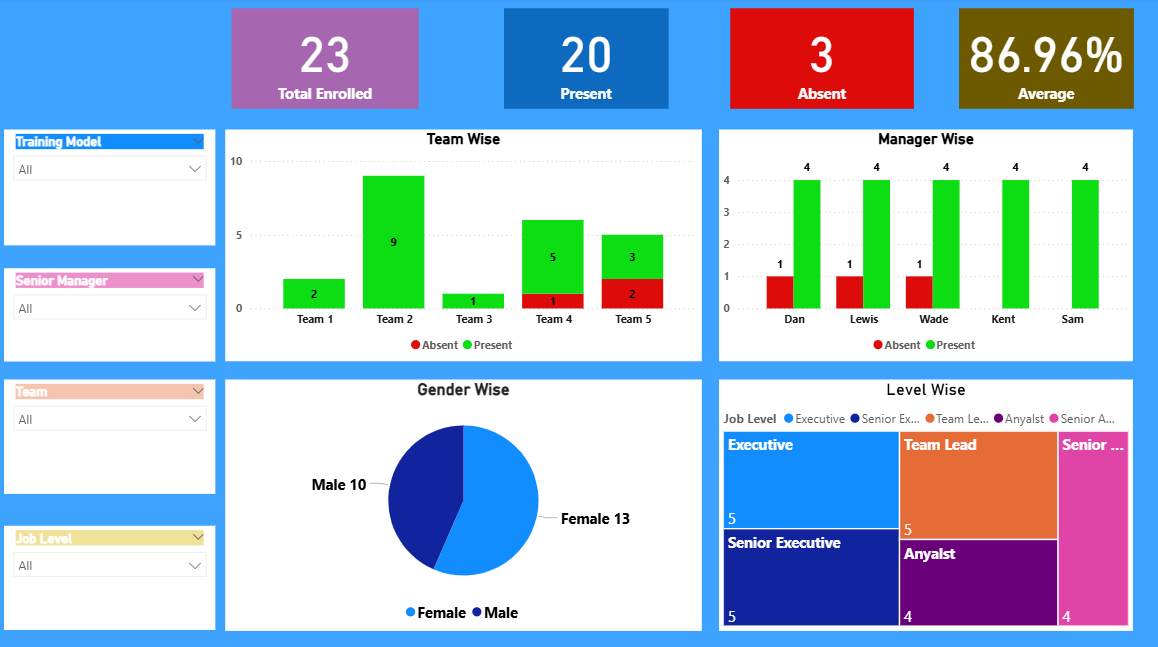

What the dashboard file says about the page in this screenshot:
{"tool":"powerbi","page":{"name":"Page 1","canvas":[1280,720],"ordinal":0},"visuals":[{"type":"card","fields":{"Values":["CountNonNull(Data.Full Name)"]},"box":[260.3,12.6,205.7,110.5],"z":0},{"type":"card","fields":{"Values":["CountNonNull(Data.Full Name)"]},"box":[559.7,12.6,180.5,110.5],"z":1000},{"type":"card","fields":{"Values":["CountNonNull(Data.Full Name)"]},"box":[808.7,12.6,201.5,110.5],"z":2000},{"type":"card","fields":{"Values":["Avg(Data.Attendance Status)"]},"box":[1059.2,12.6,191.7,110.5],"z":3000},{"type":"columnChart","title":"Team Wise","fields":{"Category":["Data.Team"],"Y":["CountNonNull(Data.Full Name)"],"Series":["Data.Attendance"]},"box":[253.3,145.5,523.3,254.7],"z":4000},{"type":"clusteredColumnChart","title":"Manager Wise","fields":{"Category":["Data.Senior Manager"],"Y":["CountNonNull(Data.Full Name)"],"Series":["Data.Attendance"]},"box":[796.2,145.5,454.7,254.7],"z":5000},{"type":"pieChart","title":"Gender Wise","fields":{"Category":["Data.Gender"],"Y":["CountNonNull(Data.Full Name)"]},"box":[253.3,419.8,523.3,275.6],"z":6000},{"type":"treemap","title":"Level Wise","fields":{"Group":["Data.Job Level"],"Values":["CountNonNull(Data.Full Name)"]},"box":[796.2,419.8,454.7,275.6],"z":7000},{"type":"slicer","fields":{"Values":["Data.Training Model"]},"box":[11.2,145.5,232.3,127.3],"z":8000},{"type":"slicer","fields":{"Values":["Data.Senior Manager"]},"box":[11.2,298,232.3,102.1],"z":9000},{"type":"slicer","fields":{"Values":["Data.Team"]},"box":[11.2,419.8,232.3,125.9],"z":10000},{"type":"slicer","fields":{"Values":["Data.Job Level"]},"box":[11.2,580.7,232.3,114.7],"z":11000}]}

Visuals, with their boxes in screenshot pixels (x1, y1, x2, y2), scaled from the page's 1280x720 canvas onto the 1158x647 screenshot:
card - CountNonNull(Data.Full Name): select_region(235, 11, 422, 111)
card - CountNonNull(Data.Full Name): select_region(506, 11, 670, 111)
card - CountNonNull(Data.Full Name): select_region(732, 11, 914, 111)
card - Avg(Data.Attendance Status): select_region(958, 11, 1132, 111)
"Team Wise" columnChart: select_region(229, 131, 703, 360)
"Manager Wise" clusteredColumnChart: select_region(720, 131, 1132, 360)
"Gender Wise" pieChart: select_region(229, 377, 703, 625)
"Level Wise" treemap: select_region(720, 377, 1132, 625)
slicer - Data.Training Model: select_region(10, 131, 220, 245)
slicer - Data.Senior Manager: select_region(10, 268, 220, 360)
slicer - Data.Team: select_region(10, 377, 220, 490)
slicer - Data.Job Level: select_region(10, 522, 220, 625)
